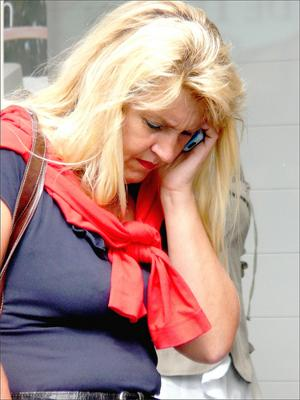person: (3, 2, 242, 398)
